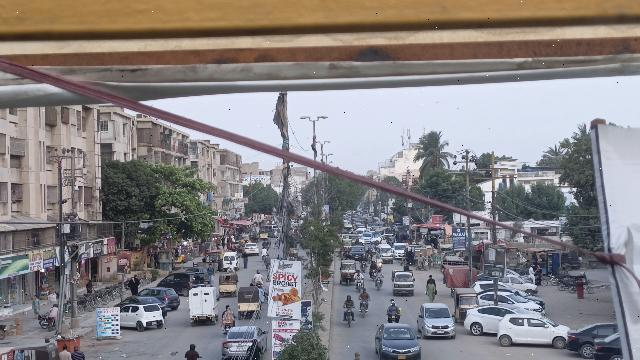Bike: (342, 306, 357, 329), (357, 298, 371, 319), (372, 276, 385, 290), (386, 311, 402, 322), (354, 279, 366, 290)
Car: (496, 311, 570, 350), (372, 322, 422, 360), (565, 319, 616, 356), (464, 305, 520, 337), (416, 300, 457, 342), (220, 323, 266, 360), (119, 303, 165, 332), (156, 270, 204, 294), (141, 286, 180, 309), (591, 329, 619, 360)
Person: (245, 338, 264, 360), (181, 341, 199, 360), (127, 272, 141, 296), (220, 304, 235, 324), (426, 279, 437, 302), (70, 345, 86, 360), (357, 286, 372, 301), (342, 293, 355, 310), (387, 297, 400, 312), (59, 345, 71, 360), (424, 274, 437, 284), (355, 269, 365, 280), (374, 267, 384, 278)
Rickshaw: (452, 288, 479, 323), (237, 286, 262, 321), (337, 258, 356, 287), (219, 272, 238, 298)
Suzuki: (389, 266, 417, 298)
Truck: (188, 286, 220, 325)
Van: (220, 253, 240, 272)
